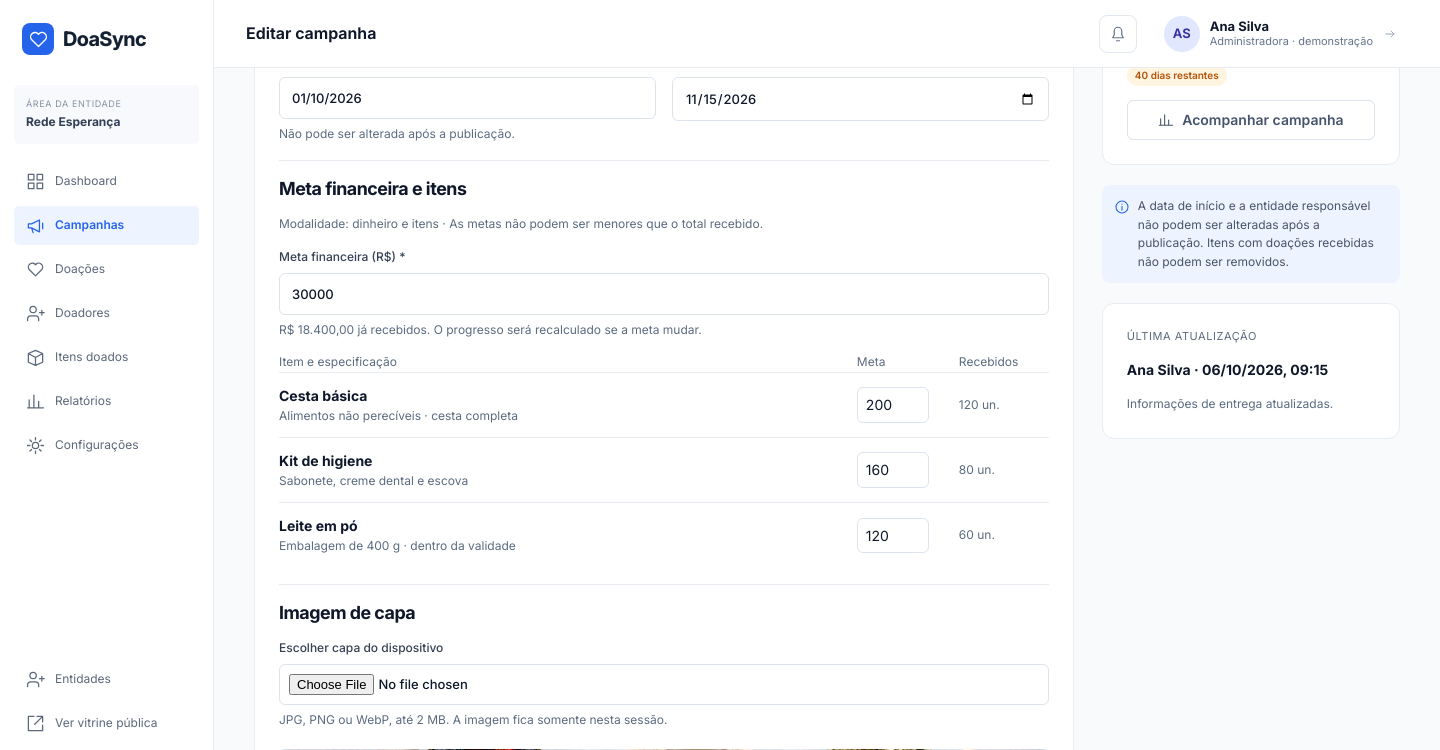
Test: Editar campanha (DEV-CAM-08) › recusa meta de item menor que a quantidade já recebida
The width and height of the screenshot is (1440, 750).
(page scrolled)
Replace the text in the field named "Meta de Cesta básica" with "50" at (893, 405), box [857,387,929,423]
(page scrolled)
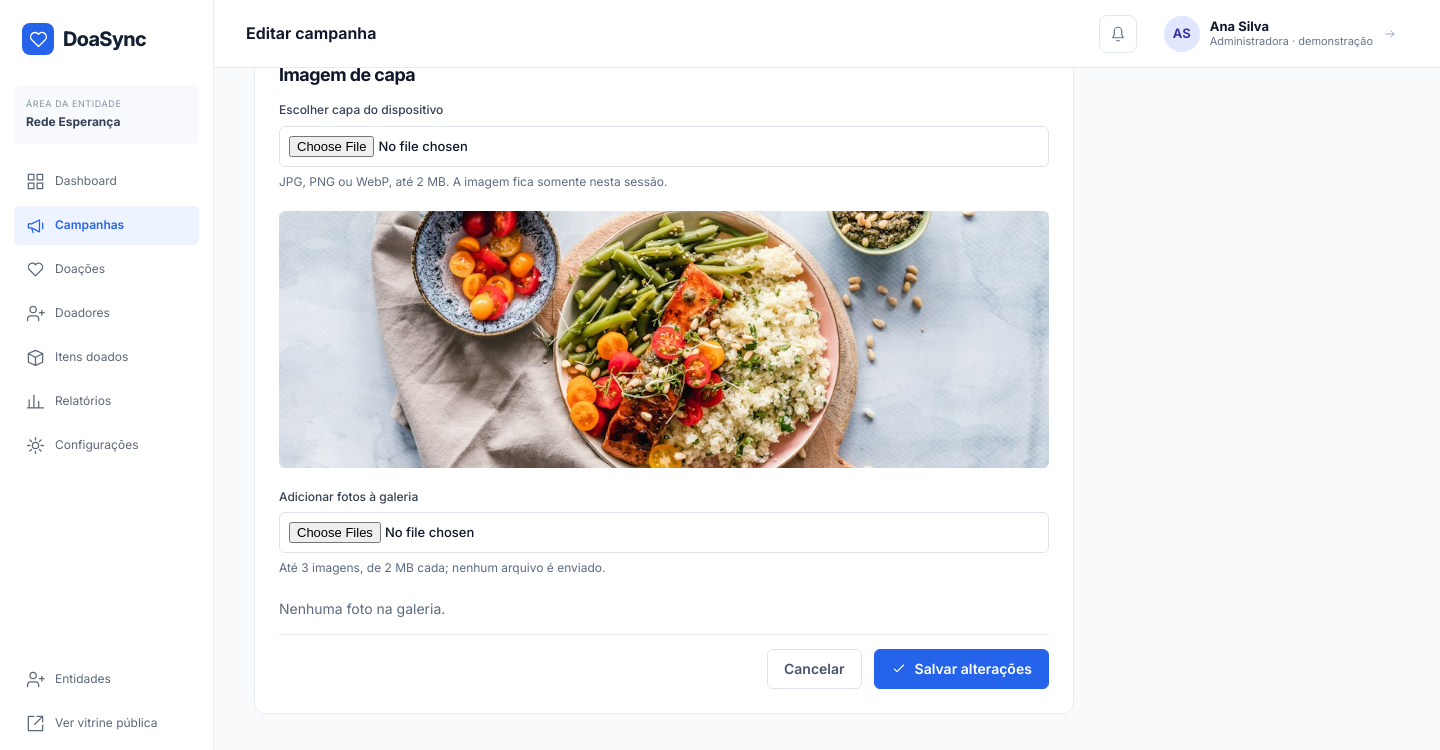
Click the button "Salvar alterações" at (961, 669), box [874,649,1049,689]
(page scrolled)
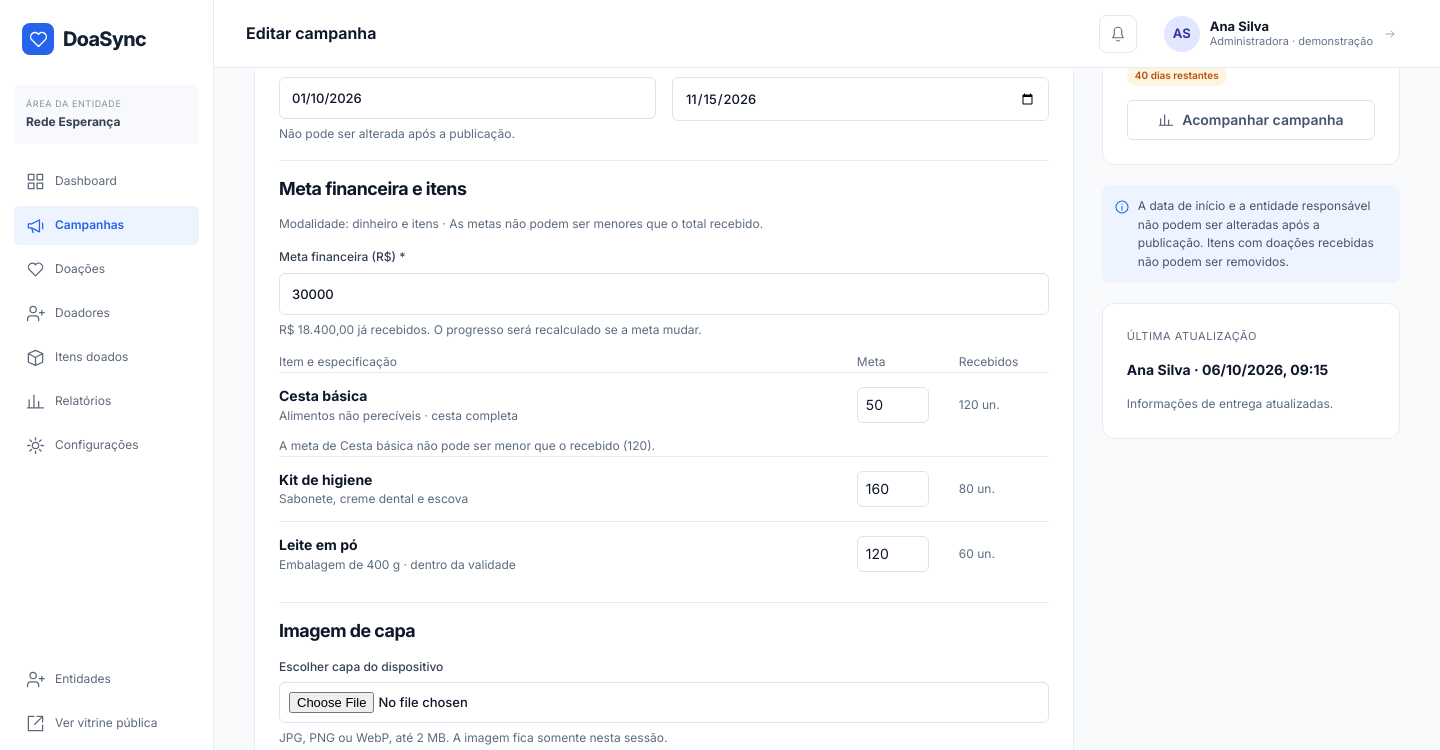
Expected: the message reads "A meta de Cesta básica não pode ser menor que o recebido (120).", [279,438,655,453]
